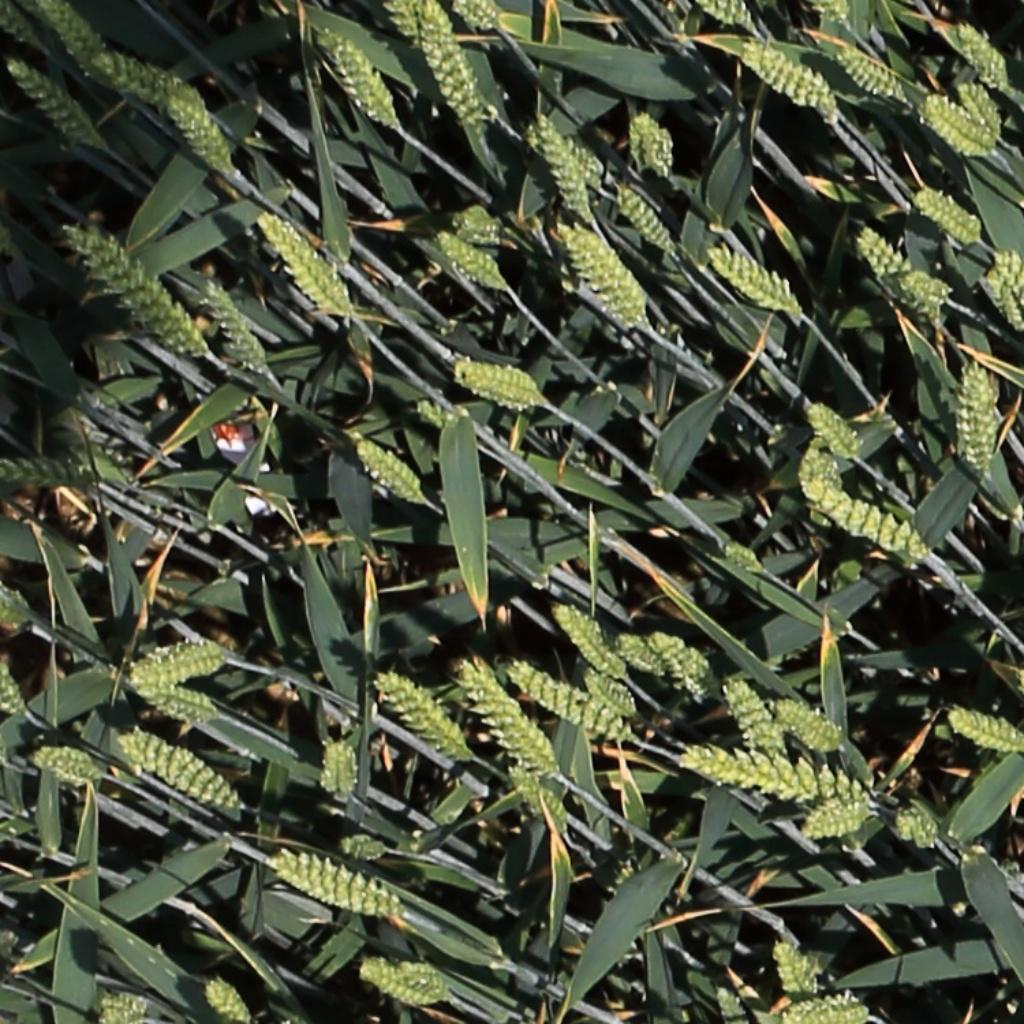0-0: (69, 226, 216, 360), (674, 739, 886, 817), (454, 654, 558, 776), (252, 207, 357, 321), (505, 656, 636, 745), (117, 729, 252, 814), (266, 844, 410, 923), (4, 56, 107, 153), (555, 223, 651, 326), (414, 0, 489, 127), (155, 71, 240, 178), (814, 486, 935, 560), (372, 671, 469, 763), (853, 220, 938, 317), (318, 27, 395, 132), (36, 0, 122, 89), (548, 599, 633, 687), (202, 277, 273, 380), (738, 42, 832, 113), (534, 110, 595, 218), (705, 248, 805, 313), (128, 630, 232, 691), (519, 123, 606, 191), (719, 674, 783, 761), (452, 355, 546, 411), (610, 183, 677, 260), (355, 437, 430, 505), (767, 696, 853, 754), (955, 359, 999, 472), (645, 630, 715, 701), (801, 393, 870, 465), (951, 15, 1011, 95), (507, 764, 568, 842), (355, 954, 443, 1008), (90, 48, 169, 105), (922, 95, 994, 157), (434, 230, 506, 291), (836, 47, 907, 105), (795, 795, 875, 842), (28, 740, 103, 789), (946, 708, 1024, 754), (912, 188, 980, 240), (137, 683, 223, 724), (768, 936, 819, 1003), (450, 203, 518, 252), (1, 451, 91, 488), (978, 264, 1024, 335), (627, 109, 675, 176), (954, 73, 1004, 137), (778, 990, 871, 1024), (795, 445, 848, 503), (581, 667, 641, 718), (320, 733, 360, 807), (394, 959, 458, 1004), (897, 263, 960, 308), (613, 633, 666, 677), (204, 978, 253, 1024), (895, 802, 941, 849), (0, 653, 30, 724), (335, 830, 395, 862), (0, 1, 39, 50), (0, 575, 36, 628), (413, 397, 469, 431), (994, 249, 1024, 311), (696, 0, 758, 29), (712, 983, 751, 1024), (382, 0, 424, 38), (454, 0, 503, 30), (720, 542, 764, 574), (99, 990, 151, 1014), (816, 0, 851, 28), (99, 1006, 146, 1024)
